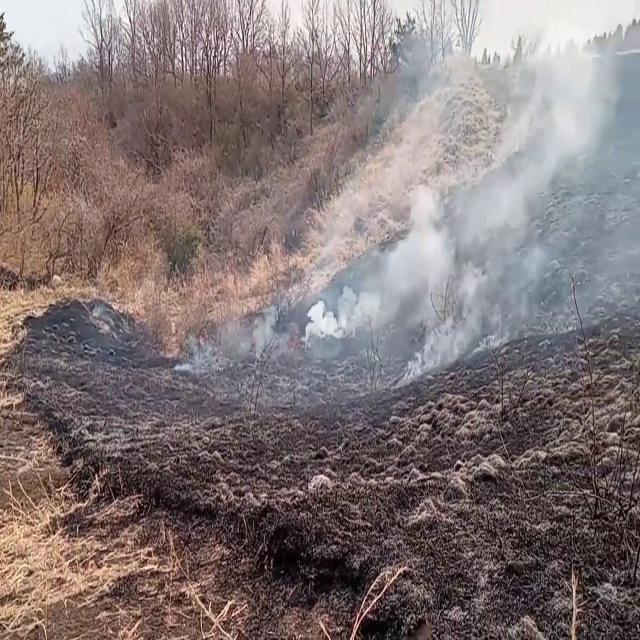Smoke: (307, 4, 640, 380)
